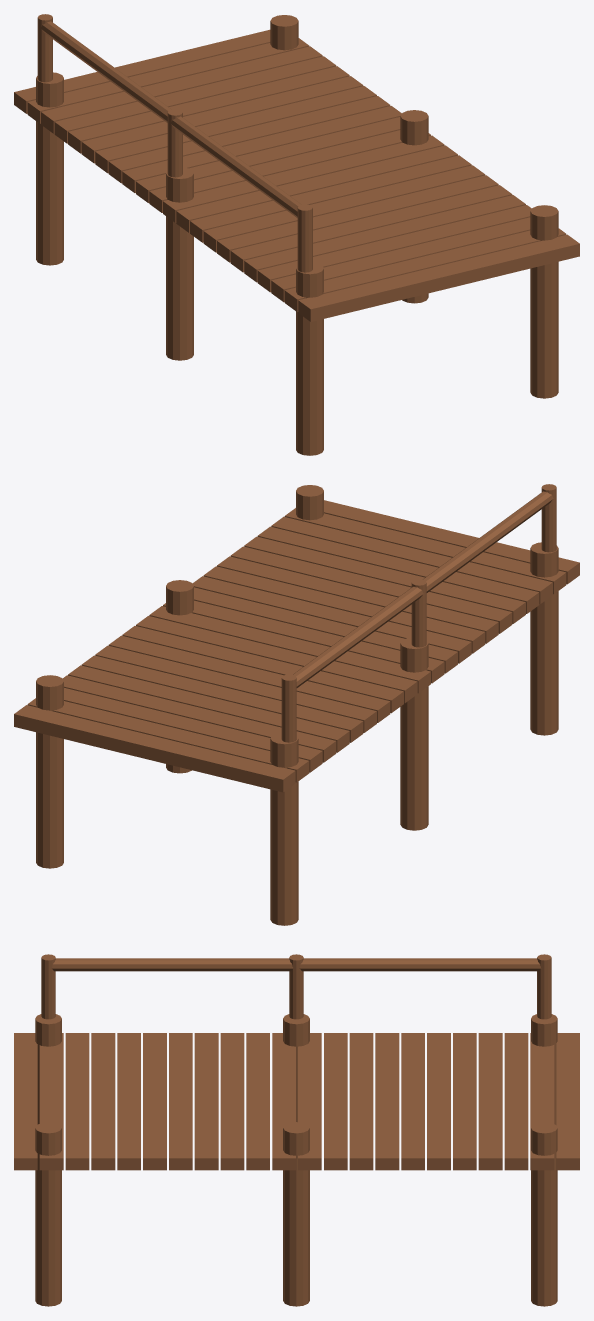
File: 026_timber_landing_jetty.glb
3 renders of one model, top to bottom at view 1: azimuth 30°, elevation 25°; view 2: azimuth 150°, elevation 25°; view 3: azimuth 270°, elevation 25°, orthographic. The views are drawn at different scales.
Parts seen in each view (by area): view 1: Timber landing jetty; view 2: Timber landing jetty; view 3: Timber landing jetty.
Part boxes in pixels (x1,y1,x2,y2): Timber landing jetty: (14,14,579,455); Timber landing jetty: (14,484,579,925); Timber landing jetty: (14,954,579,1306).
Bounding box in the file's own units: 2.87 × 2.48 × 5.48.
